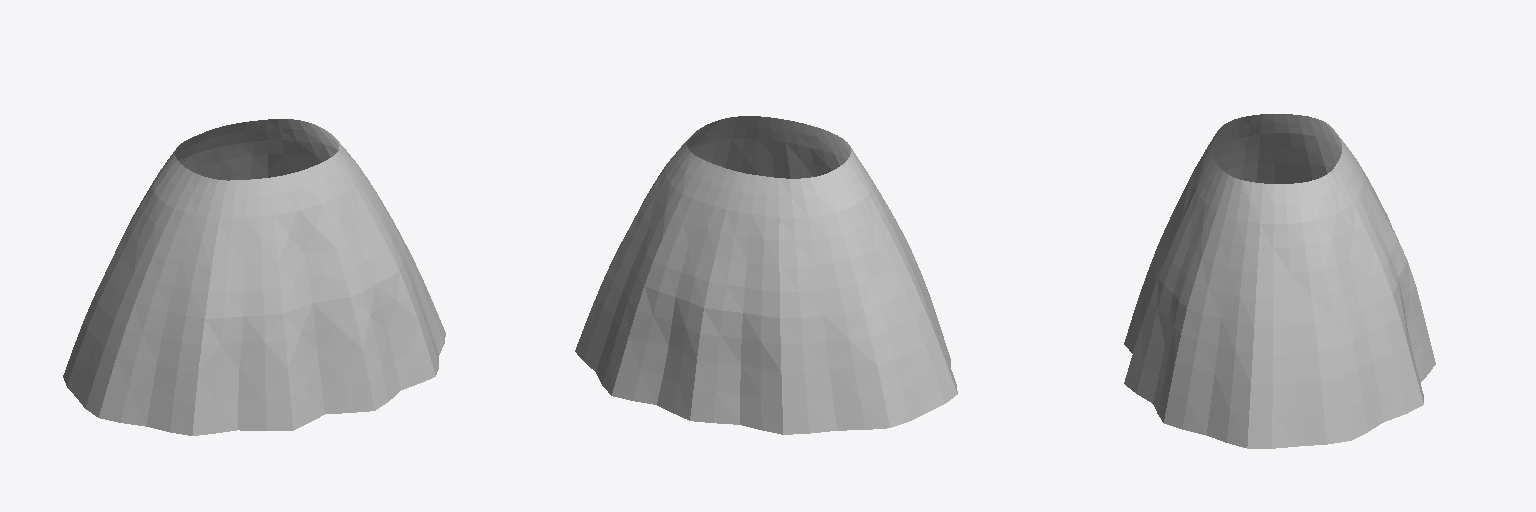
Rendered from 6_shirtshortfullwavy.obj.
3 views of the same model, side by side, from view 1: azimuth 30°, elevation 25°; view 2: azimuth 150°, elevation 25°; view 3: azimuth 270°, elevation 25° (orthographic).
Parts seen in each view (by area): view 1: skirtfront, skirtback, skirtbackleft, skirtbackright; view 2: skirtback, skirtbackleft, skirtfront, skirtbackright; view 3: skirtfront, skirtbackright, skirtback, skirtbackleft.
Part boxes in pixels (x1,y1,x2,y2): skirtfront: (76,131,445,435); skirtback: (176,120,267,180); skirtbackleft: (63,139,189,396); skirtbackright: (267,119,338,177); skirtback: (612,160,782,434); skirtbackleft: (779,169,925,434); skirtfront: (687,116,957,412); skirtbackright: (575,139,702,395); skirtfront: (1124,114,1298,448); skirtbackright: (1287,167,1423,445); skirtback: (1335,134,1435,402); skirtbackleft: (1287,114,1341,182).
Bounding box in the file's own units: 24.05 × 14.25 × 18.68.